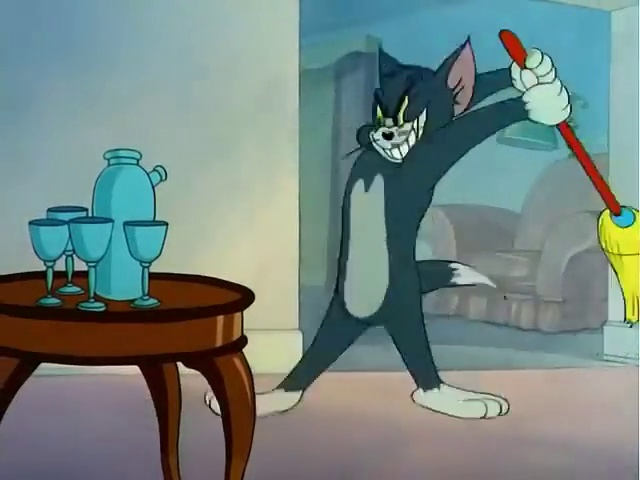tom: (279, 8, 606, 431)
